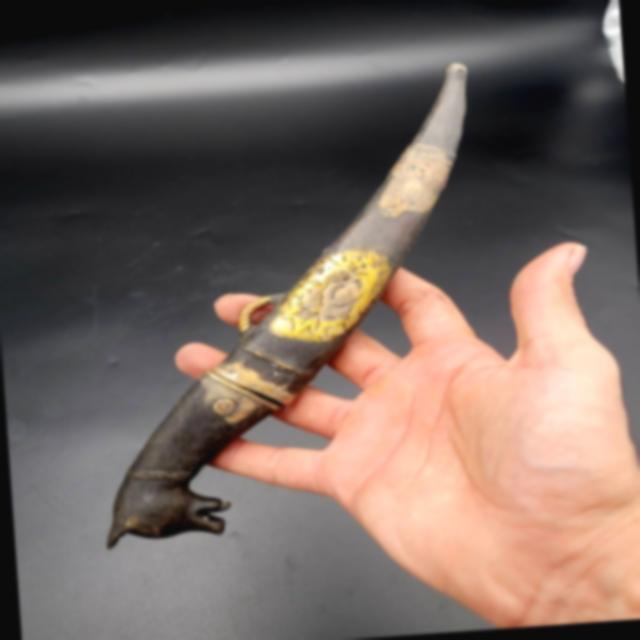short sword: (46, 42, 533, 556)
